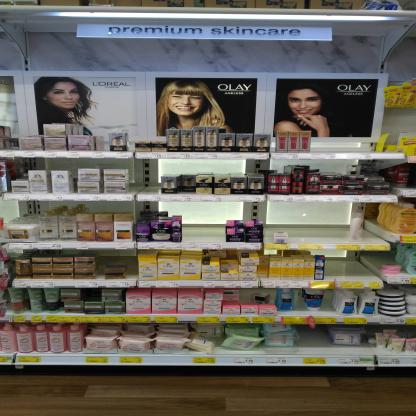Void: (268, 201, 346, 243), (180, 200, 224, 243), (325, 251, 379, 283), (316, 130, 374, 152), (133, 157, 159, 195), (370, 204, 385, 244), (302, 328, 327, 350), (98, 252, 137, 265)
